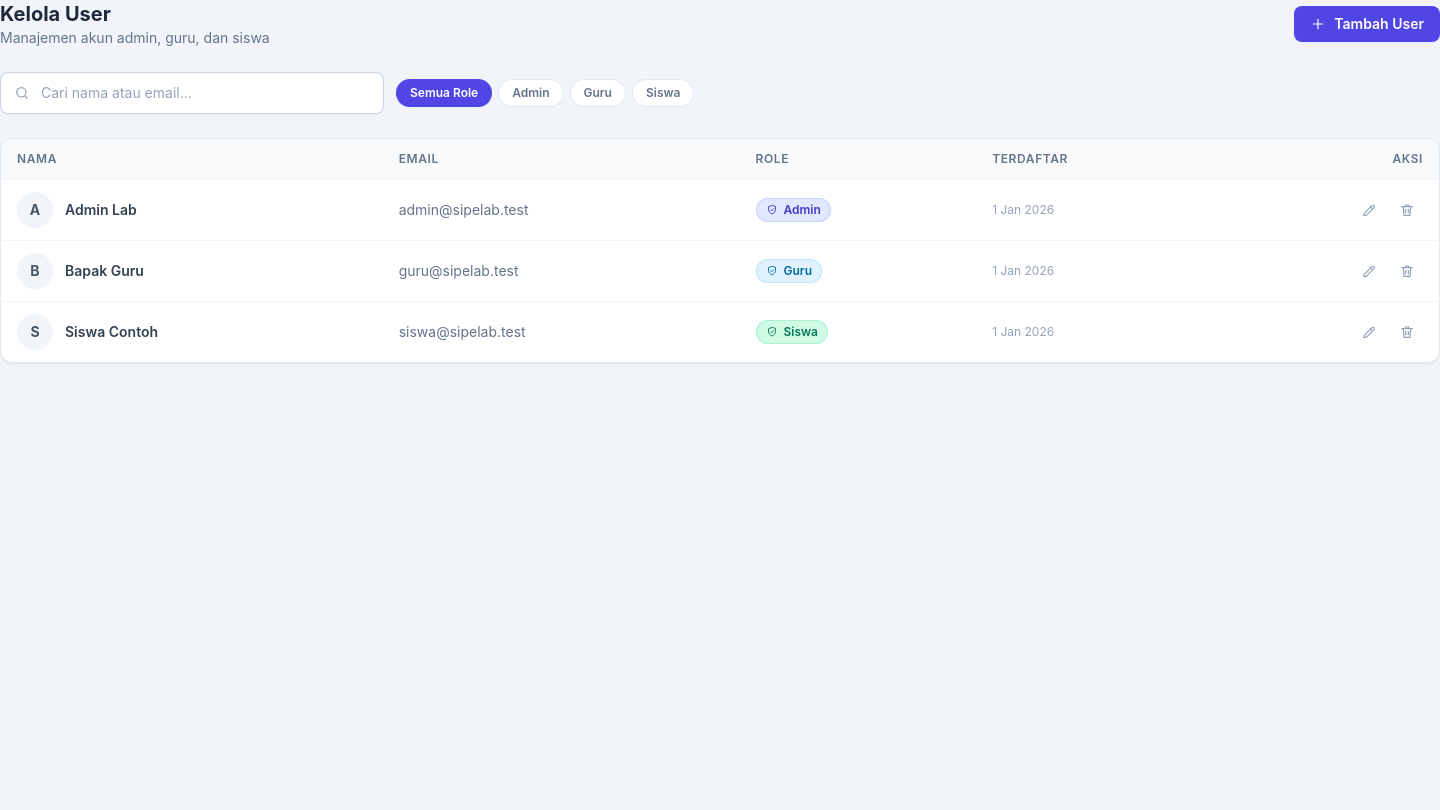
Test case: Users — halaman manajemen user untuk admin › menampilkan form tambah user saat klik Tambah User
Click the button "Tambah User" at (1367, 24), box [1294, 6, 1439, 42]
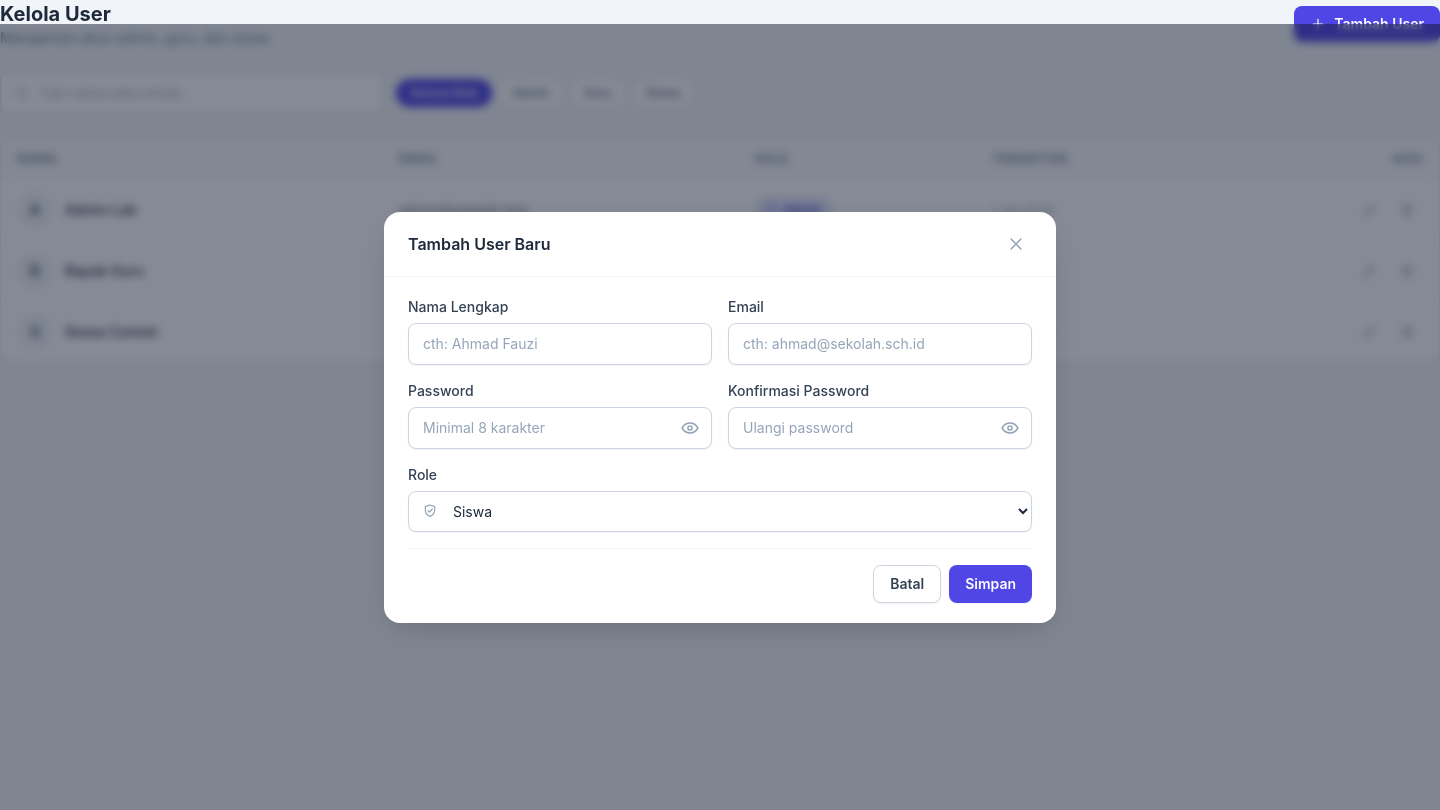
Expected: the heading "Tambah User Baru" is shown, [408, 232, 550, 256]
Expected: the field labelled "Nama Lengkap" is shown, [408, 322, 712, 364]
Expected: the field labelled "Email" is shown, [728, 322, 1032, 364]
